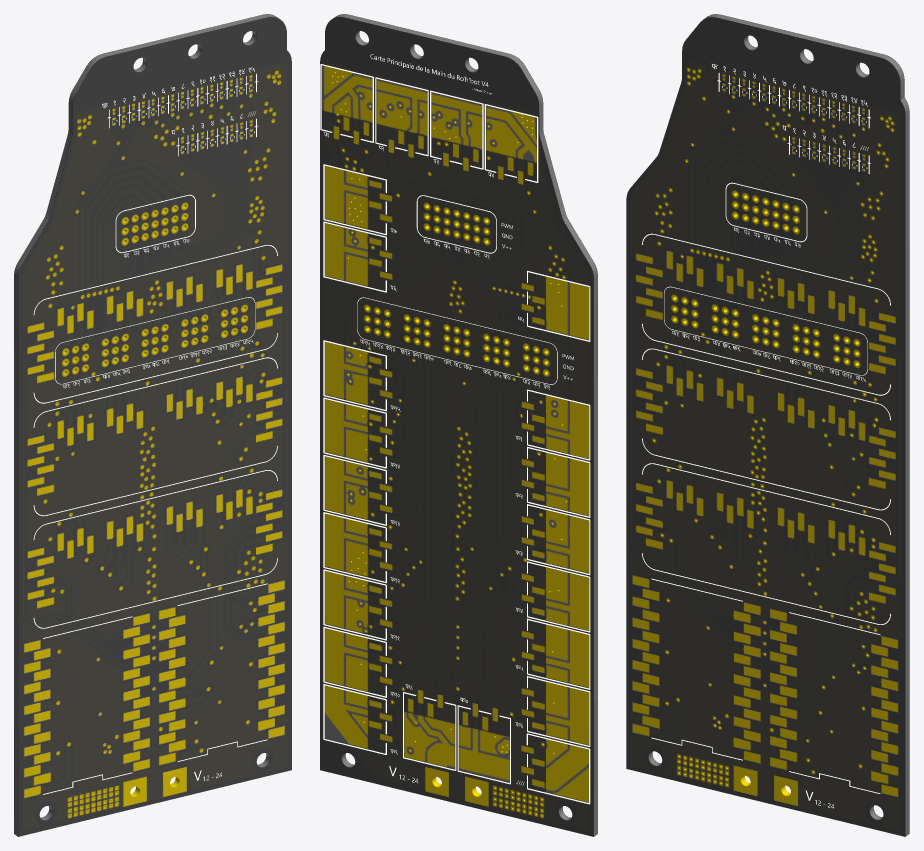
The model's file is AucklandVersionWhite_MainBoard.glb.
The picture shows the model from 3 angles, left to right: view 1: azimuth 30°, elevation 25°; view 2: azimuth 150°, elevation 25°; view 3: azimuth 330°, elevation 25°; orthographic projection.
Visible parts, largest first — view 1: PCB_Board, Shape_8; view 2: PCB_Board, Shape_9; view 3: PCB_Board, Shape_8.
Boxes of the visible parts, <box> form: PCB_Board: <box>14,14,291,836</box>; Shape_8: <box>33,67,277,794</box>; PCB_Board: <box>320,14,597,836</box>; Shape_9: <box>320,54,590,804</box>; PCB_Board: <box>626,14,909,836</box>; Shape_8: <box>642,64,890,808</box>.
Bounding box in the file's own units: 70 × 185 × 1.87.
3 materials, 1 textured.
